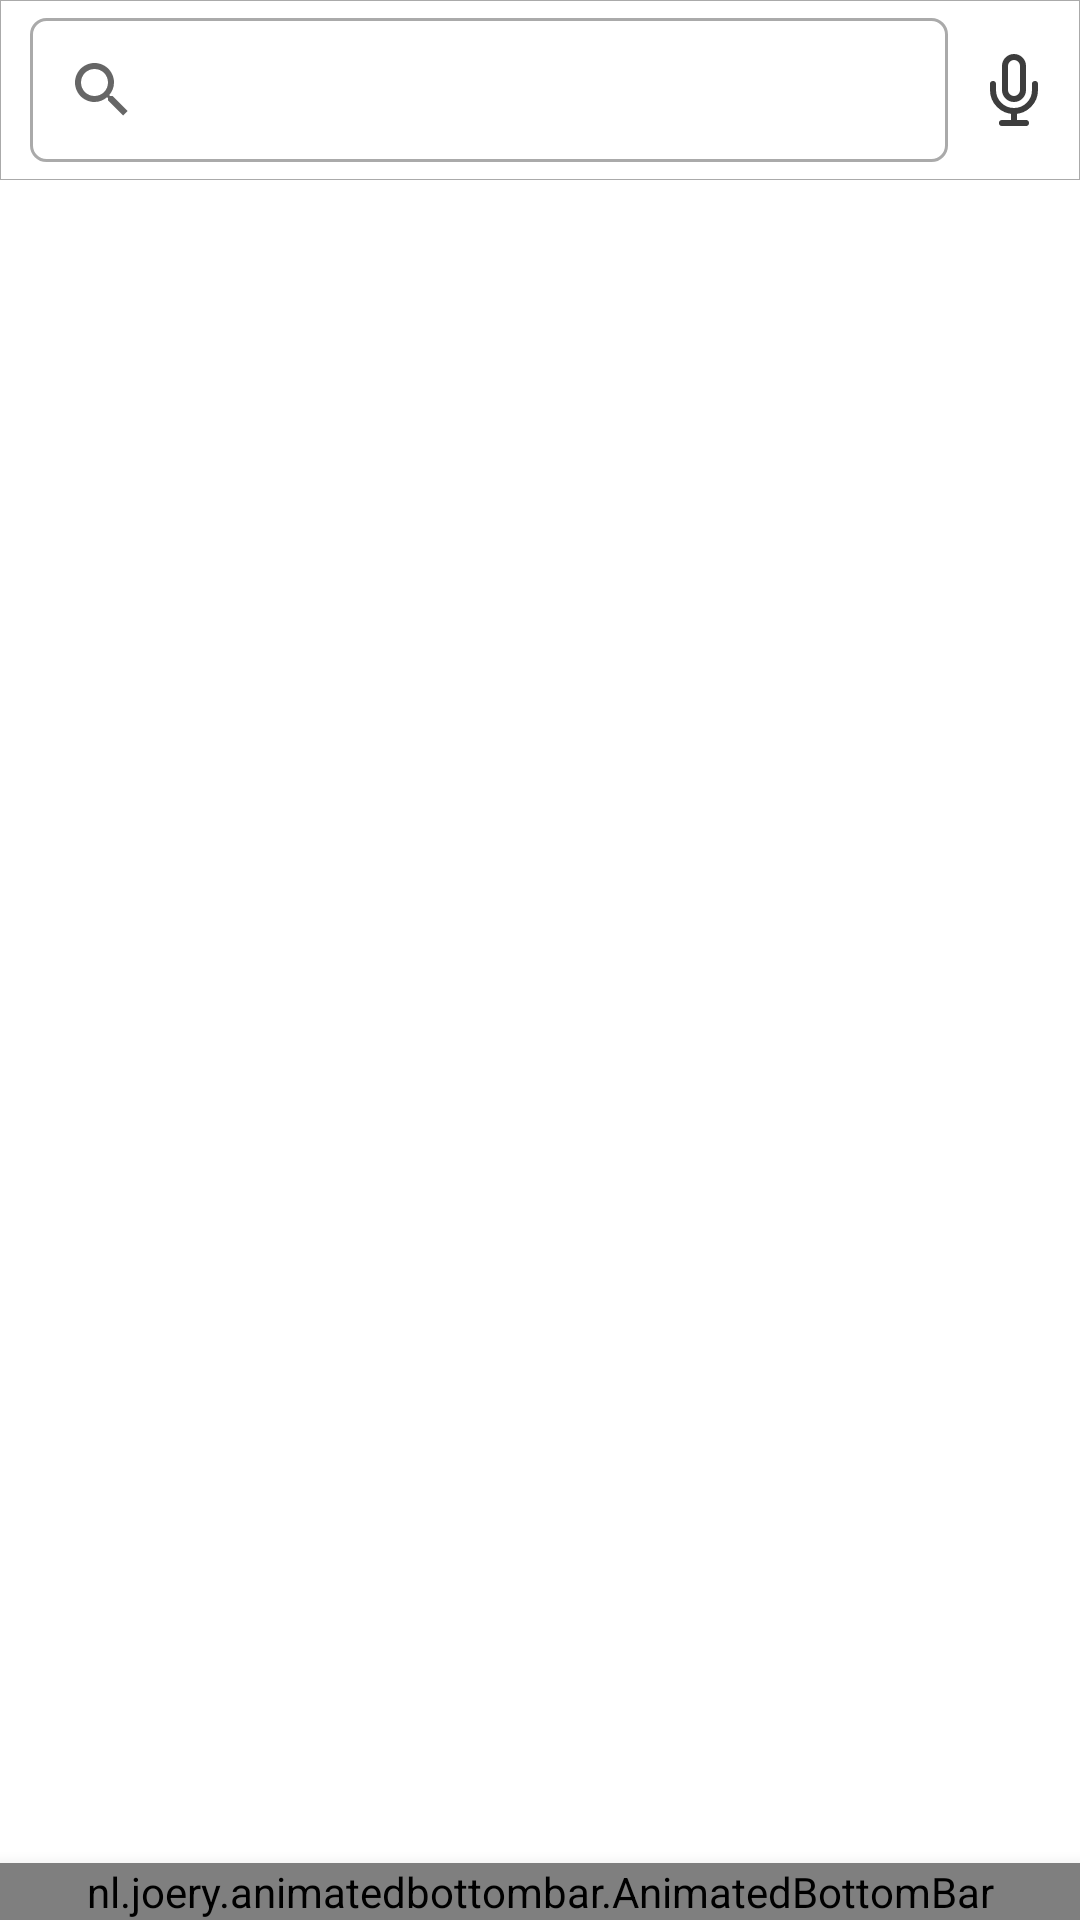

Icons on this 1080×1920 Android screen, each with its box as (x1, y1, x2, y2):
mike other: (990, 54, 1038, 126)
